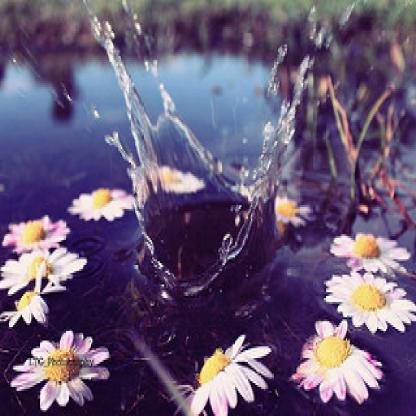ASTER: (2, 59, 413, 409)
